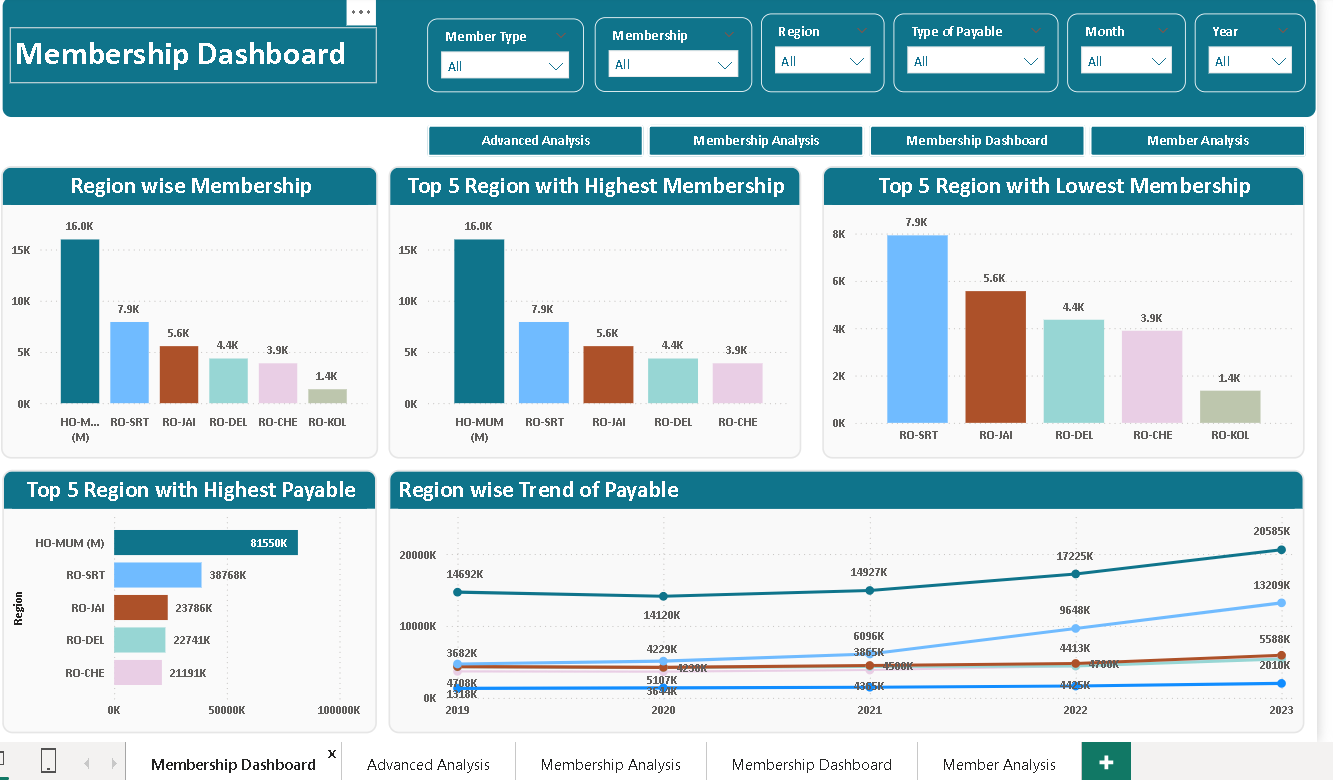

What the dashboard file says about the page in this screenshot:
{"tool":"powerbi","page":{"name":"Membership Dashboard","canvas":[1280,720],"ordinal":0},"visuals":[{"type":"textbox","box":[9.7,0,1270.4,118.2],"z":0},{"type":"textbox","box":[18.1,30.2,354.7,54.3],"z":1000},{"type":"slicer","fields":{"Values":["Membership POC.post_date.Variation.Date Hierarchy.Month"]},"box":[1038.7,16.9,114.6,76],"z":2000},{"type":"slicer","fields":{"Values":["Membership POC.Type of Firm"]},"box":[871.1,16.9,159.3,76],"z":3000},{"type":"slicer","fields":{"Values":["Membership POC.Region"]},"box":[743.2,16.9,119.4,76],"z":4000},{"type":"slicer","fields":{"Values":["Membership POC.post_date.Variation.Date Hierarchy.Year"]},"box":[1161.8,16.9,107.4,76],"z":5000},{"type":"slicer","fields":{"Values":["Membership POC.Member Type"]},"box":[421,21.7,150.8,71.2],"z":6000},{"type":"slicer","fields":{"Values":["Membership POC.Membership Type"]},"box":[582.7,20.5,152,72.4],"z":7000},{"type":"clusteredColumnChart","title":"Region wise Membership","fields":{"Category":["Membership POC.Region"],"Y":["CountNonNull(Membership POC.Membership Type)"]},"box":[9.7,164.1,364.3,282.3],"z":8000},{"type":"clusteredColumnChart","title":"Top 5 Region with Highest Membership","fields":{"Category":["Membership POC.Region"],"Y":["CountNonNull(Membership POC.Membership Type)"]},"box":[383.6,164.1,398.1,282.3],"z":9000},{"type":"clusteredColumnChart","title":"Top 5 Region with Lowest Membership","fields":{"Category":["Membership POC.Region"],"Y":["CountNonNull(Membership POC.Membership Type)"]},"box":[802.3,164.1,465.7,282.3],"z":10000},{"type":"barChart","title":"Top 5 Region with Highest Payable","fields":{"Category":["Membership POC.Region"],"Y":["Sum(Membership POC.total_payable)"]},"box":[10.9,457.2,361.9,254.6],"z":11000},{"type":"lineChart","title":"Region wise Trend of Payable","fields":{"Y":["Sum(Membership POC.total_payable)"],"Category":["Membership POC.post_date.Variation.Date Hierarchy.Year"],"Series":["Membership POC.Region"]},"box":[383.6,457.2,884.3,254.6],"z":12000},{"type":"pageNavigator","box":[421,124.3,848.1,31.4],"z":13000}]}

Visuals, with their boxes on the page's 1280x720 design canvas (x1, y1, x2, y2). These are canvas units, not pixel positions in the 1333x780 screenshot, which may show the page scaled, cropped or inside an application window:
textbox: select_region(10, 0, 1280, 118)
textbox: select_region(18, 30, 373, 84)
slicer - Membership POC.post_date.Variation.Date Hierarchy.Month: select_region(1039, 17, 1153, 93)
slicer - Membership POC.Type of Firm: select_region(871, 17, 1030, 93)
slicer - Membership POC.Region: select_region(743, 17, 863, 93)
slicer - Membership POC.post_date.Variation.Date Hierarchy.Year: select_region(1162, 17, 1269, 93)
slicer - Membership POC.Member Type: select_region(421, 22, 572, 93)
slicer - Membership POC.Membership Type: select_region(583, 20, 735, 93)
"Region wise Membership" clusteredColumnChart: select_region(10, 164, 374, 446)
"Top 5 Region with Highest Membership" clusteredColumnChart: select_region(384, 164, 782, 446)
"Top 5 Region with Lowest Membership" clusteredColumnChart: select_region(802, 164, 1268, 446)
"Top 5 Region with Highest Payable" barChart: select_region(11, 457, 373, 712)
"Region wise Trend of Payable" lineChart: select_region(384, 457, 1268, 712)
pageNavigator: select_region(421, 124, 1269, 156)
